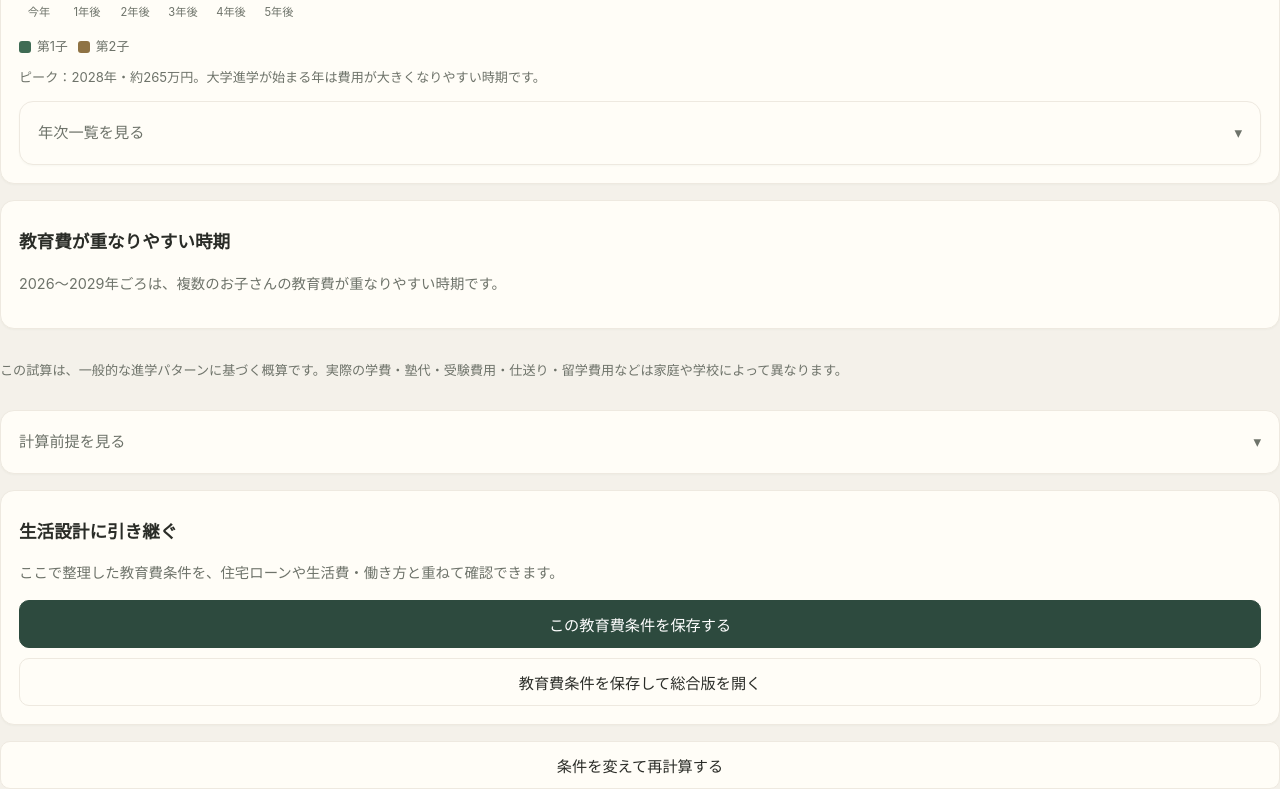
Test: ResultScreen（子2人・重なり・反映） › 保存ボタンで lifePlanLab:education に確定保存され、保存前は空
(page scrolled)
Click the button "この教育費条件を保存する" at (640, 624), box [19,600,1261,648]
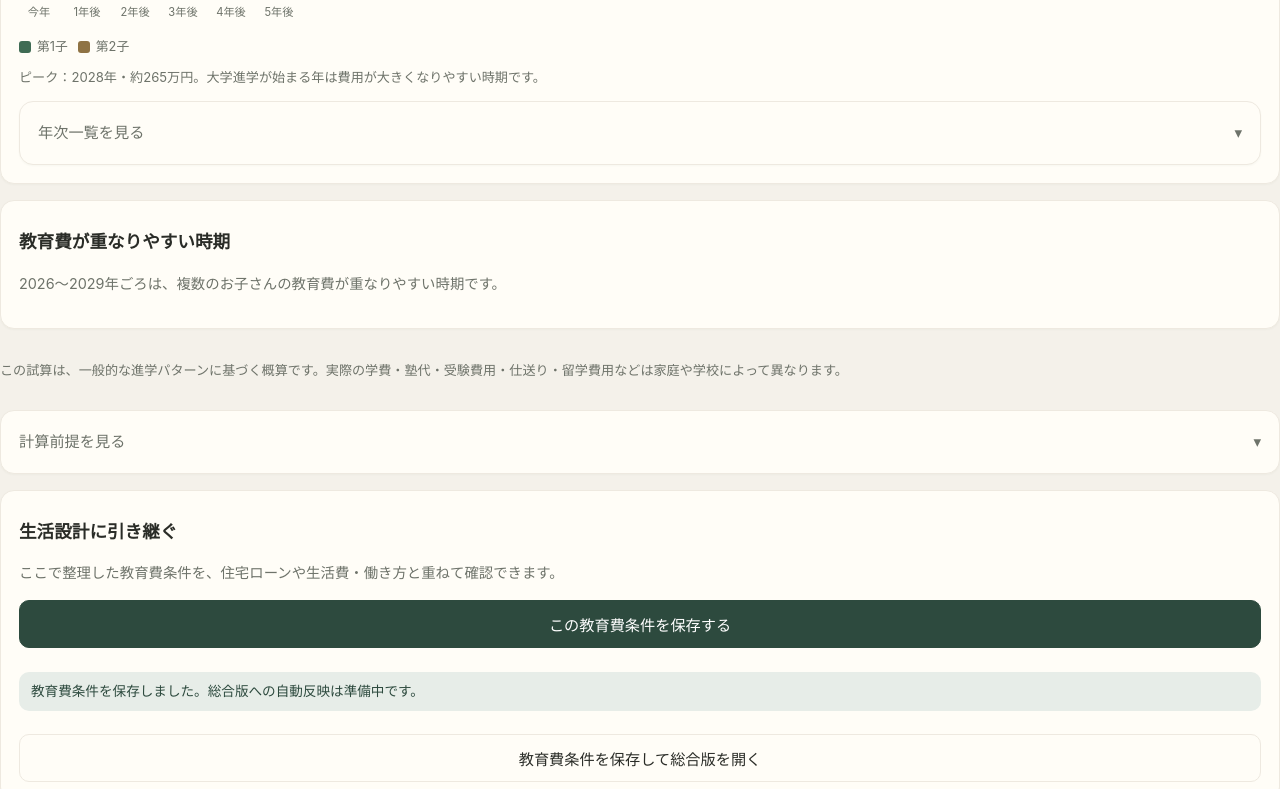
Result: the text "教育費条件を保存しました。総合版への自動反映は準備中です。" is shown at [19,672,1261,711]
